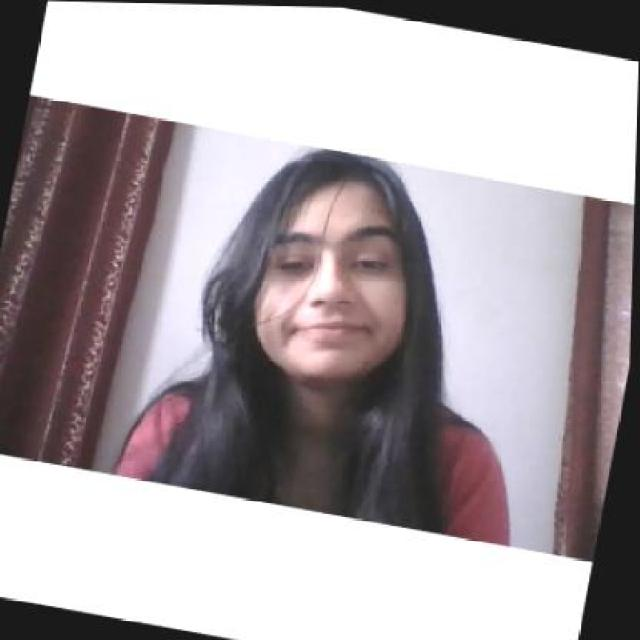attentif: (247, 140, 435, 388)
